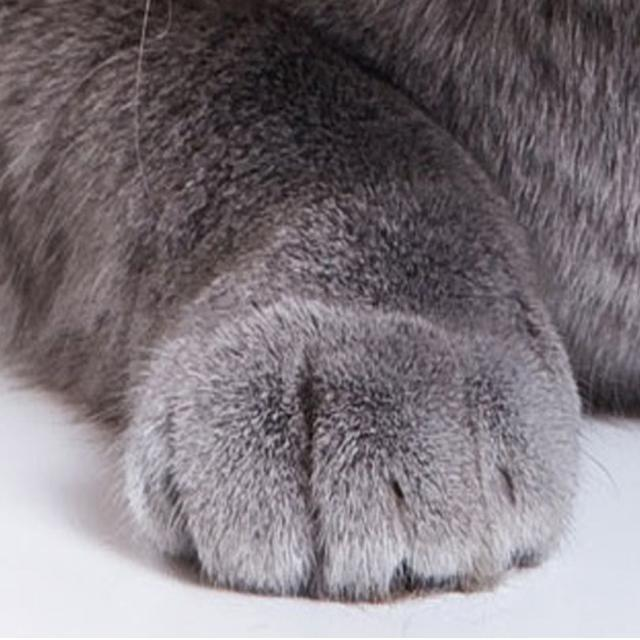Healthy skin: (153, 311, 494, 504), (10, 18, 278, 236), (369, 42, 622, 246)
